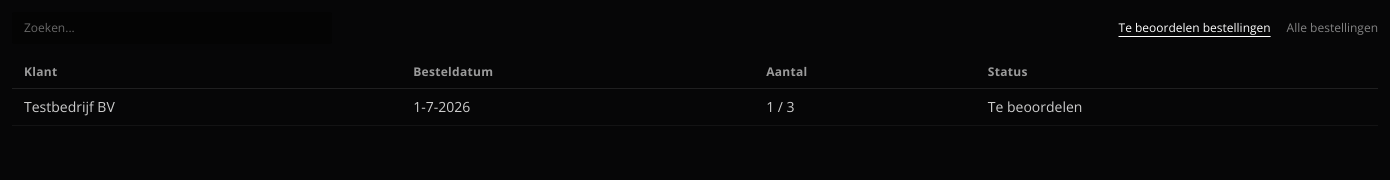
Test case: BestellingenSection › shows all bestellingen after clicking the "alle bestellingen" quick filter link
This screenshot has width=1390, height=180.
What coordinates should you click on to do the following:
click the button with test id "data-table-quick-all"
I would click on:
 (1332, 28)
Its box is [1287,20,1378,36].
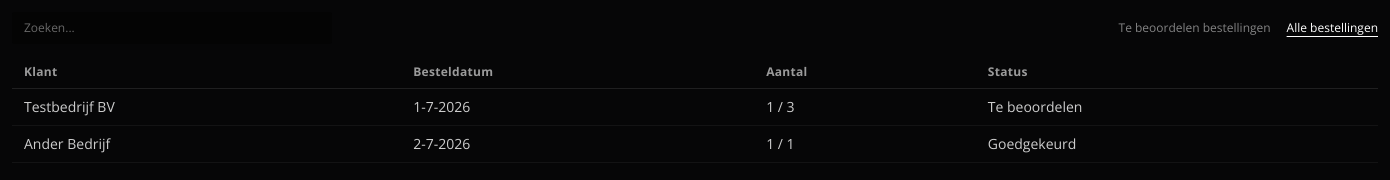
Expected: the row with test id "data-table-row-header-1" is shown, [12,88,1378,126]
Expected: the row with test id "data-table-row-header-2" is shown, [12,126,1378,162]
